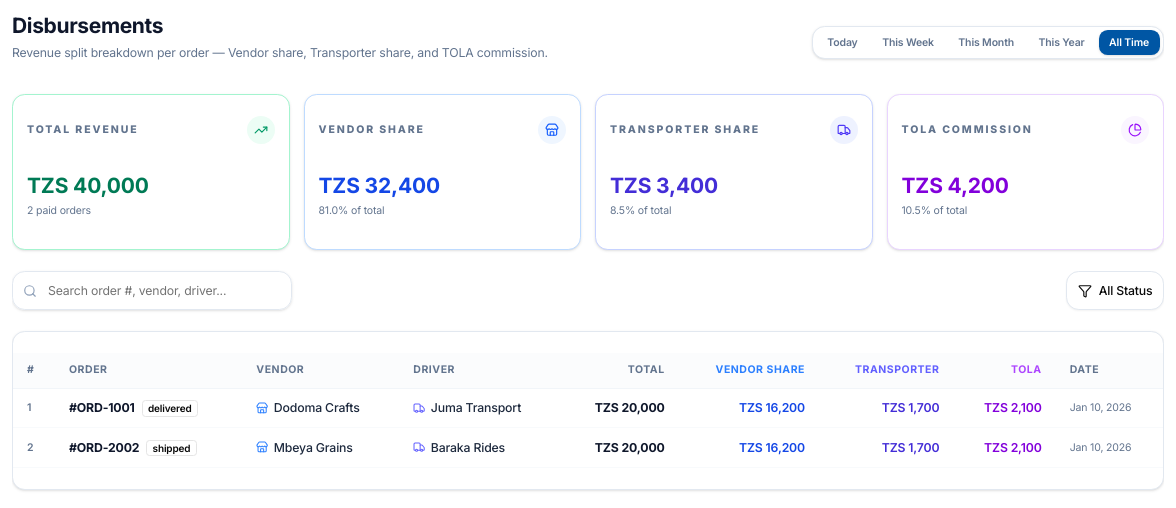
Test case: FinanceDisbursementsTab › search and status filter › filters by order number
Type "2002" into the field with placeholder "Search order #, vendor, driver...". click: (152, 291)
box: [12, 271, 292, 310]
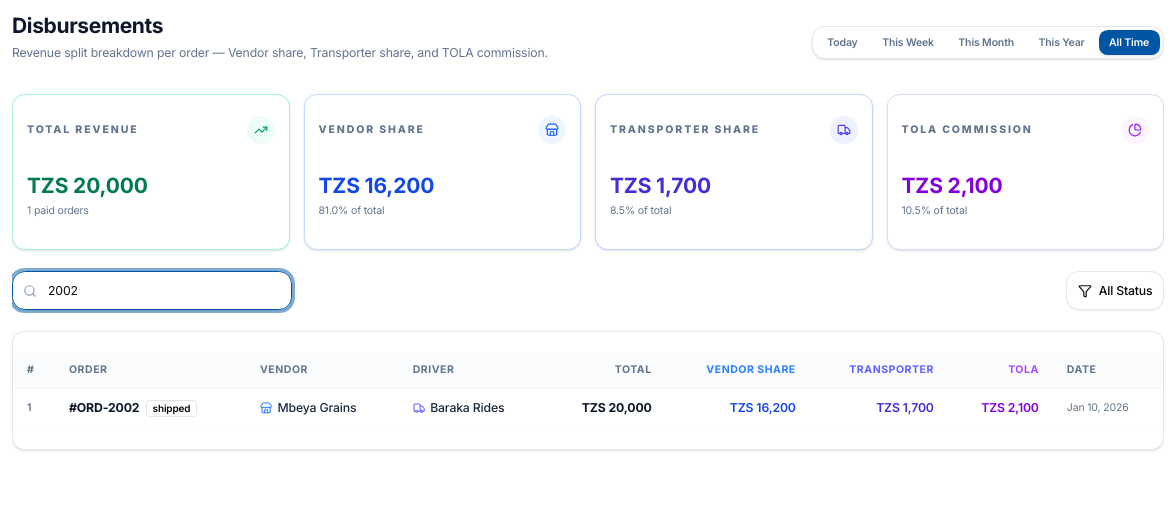
Expected: the text "#ORD-2002" is shown, [69, 400, 139, 415]
Expected: the text "#ORD-1001" is gone
